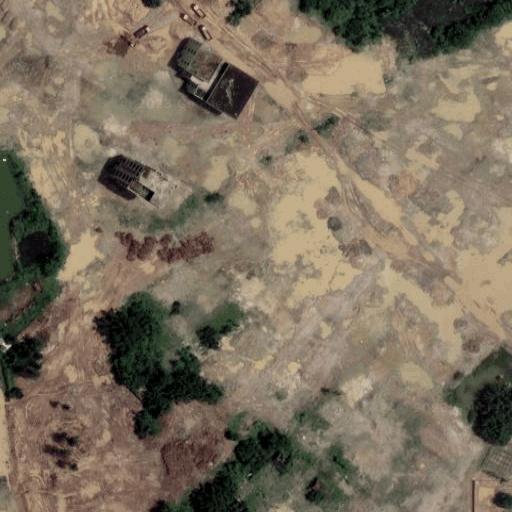building: (175, 35, 251, 112), (105, 151, 154, 196)
